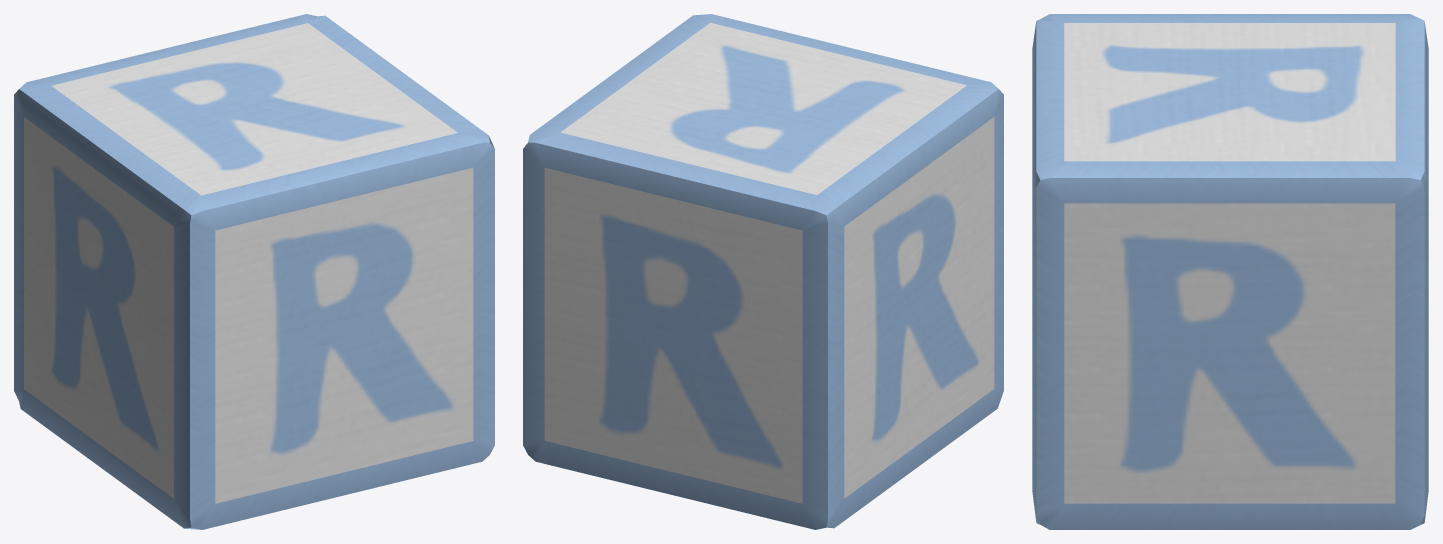
File: BlockR.fbx
The picture shows the model from 3 angles, left to right: view 1: azimuth 30°, elevation 25°; view 2: azimuth 150°, elevation 25°; view 3: azimuth 270°, elevation 25°; orthographic projection. The views are drawn at different scales.
Parts seen in each view (by area): view 1: pCube1; view 2: pCube1; view 3: pCube1.
Boxes of the visible parts, x1,y1,x2,y2 form: pCube1: [14, 14, 494, 529]; pCube1: [523, 14, 1003, 529]; pCube1: [1032, 14, 1428, 529].
Size of the model in its own units: 9 by 9 by 9.
